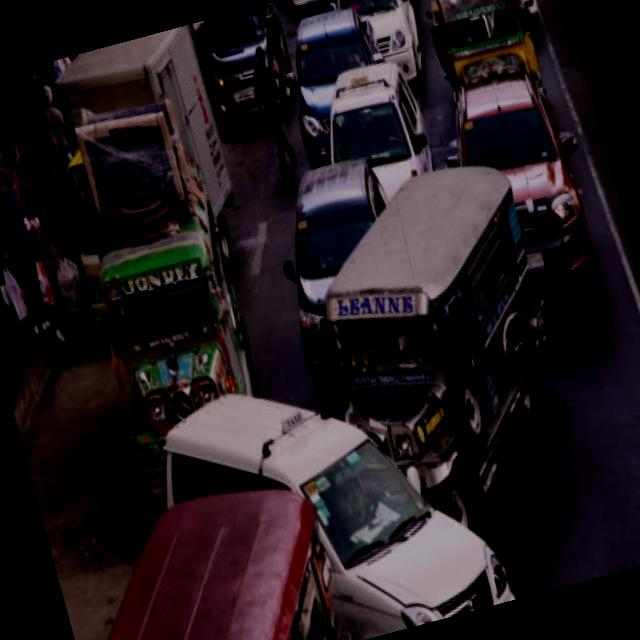Vehicle: (153, 346, 516, 640), (302, 170, 587, 524), (19, 23, 259, 322), (70, 198, 272, 474), (449, 67, 619, 334), (262, 158, 432, 422), (276, 12, 390, 160), (309, 70, 428, 180), (198, 2, 298, 125), (423, 0, 541, 104), (334, 0, 431, 88)
